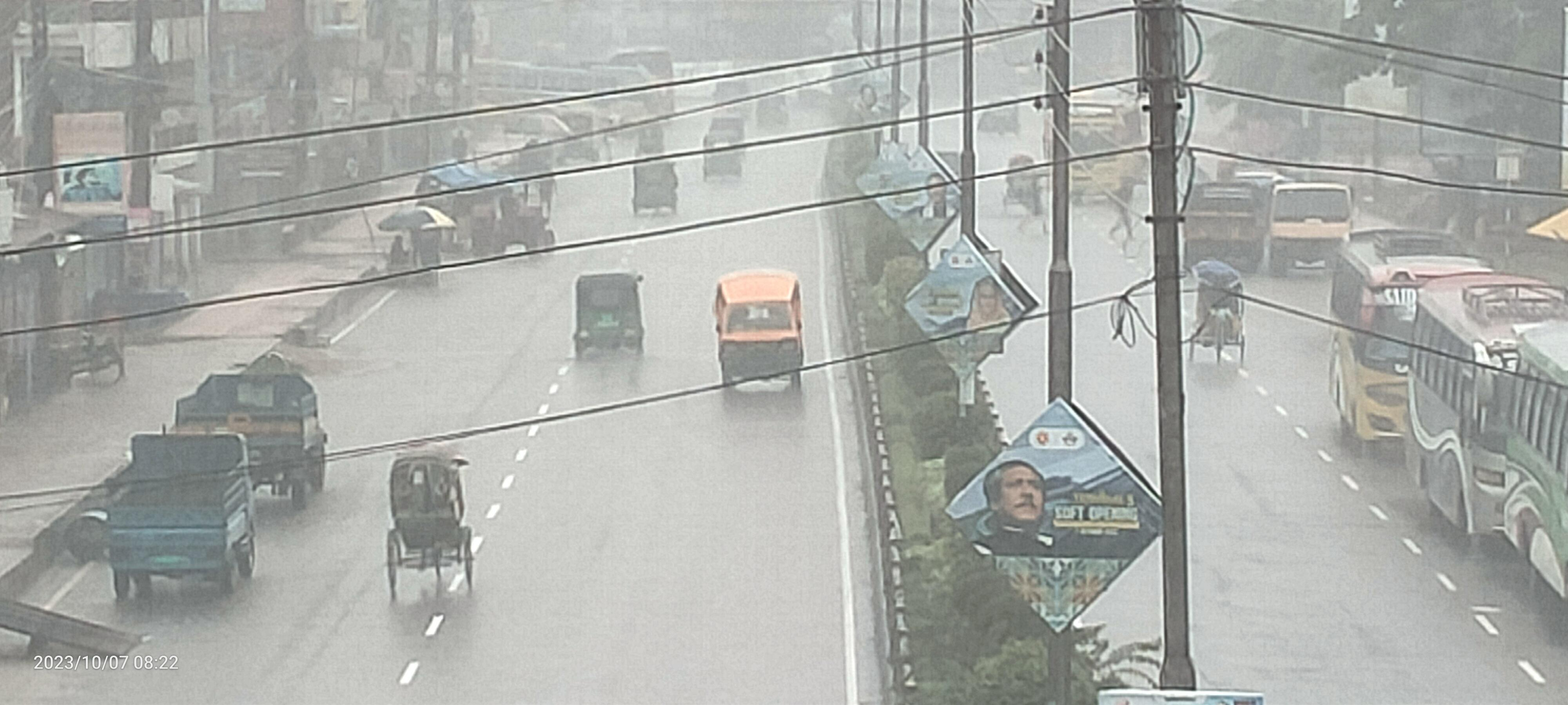Bus: (1394, 257, 1529, 556), (1314, 218, 1452, 470), (1018, 67, 1170, 240), (1493, 296, 1568, 606), (452, 28, 618, 154)
Car: (353, 421, 506, 620), (693, 249, 818, 410), (1168, 240, 1281, 378), (986, 147, 1060, 235)
Truck: (78, 389, 295, 619), (138, 357, 347, 520), (1165, 158, 1287, 288), (1261, 168, 1381, 293)
